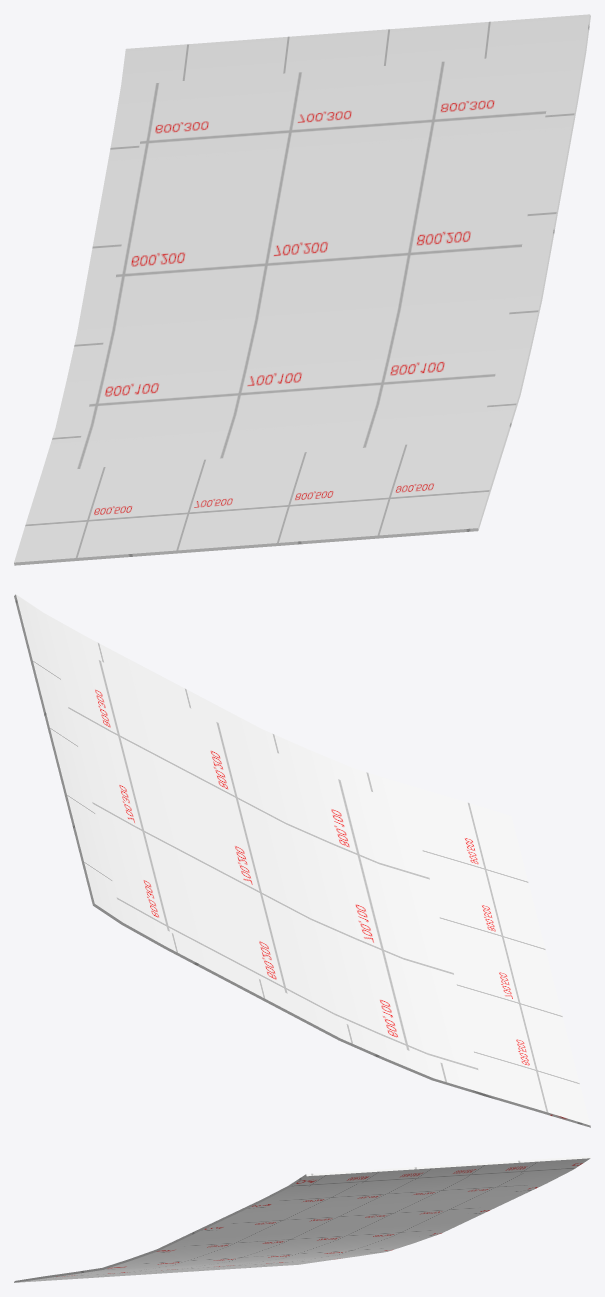
The model's file is polaroid_3d.glb.
The picture shows the model from 3 angles, top to bottom: view 1: azimuth 30°, elevation 25°; view 2: azimuth 150°, elevation 25°; view 3: azimuth 270°, elevation 25°; orthographic projection. The views are drawn at different scales.
Parts seen in each view (by area): view 1: Object_3, Object_5; view 2: Object_3, Object_5; view 3: Object_4, Object_5.
Boxes of the visible parts, left/top/right/bottom form: Object_3: left=71, top=53, right=555, bottom=469; Object_5: left=14, top=14, right=590, bottom=565; Object_3: left=49, top=632, right=479, bottom=1074; Object_5: left=14, top=594, right=590, bottom=1127; Object_4: left=95, top=1171, right=554, bottom=1272; Object_5: left=14, top=1156, right=590, bottom=1282.
Size of the model in its own units: 27.2 by 18.12 by 31.5.
3 materials, 3 textured.
